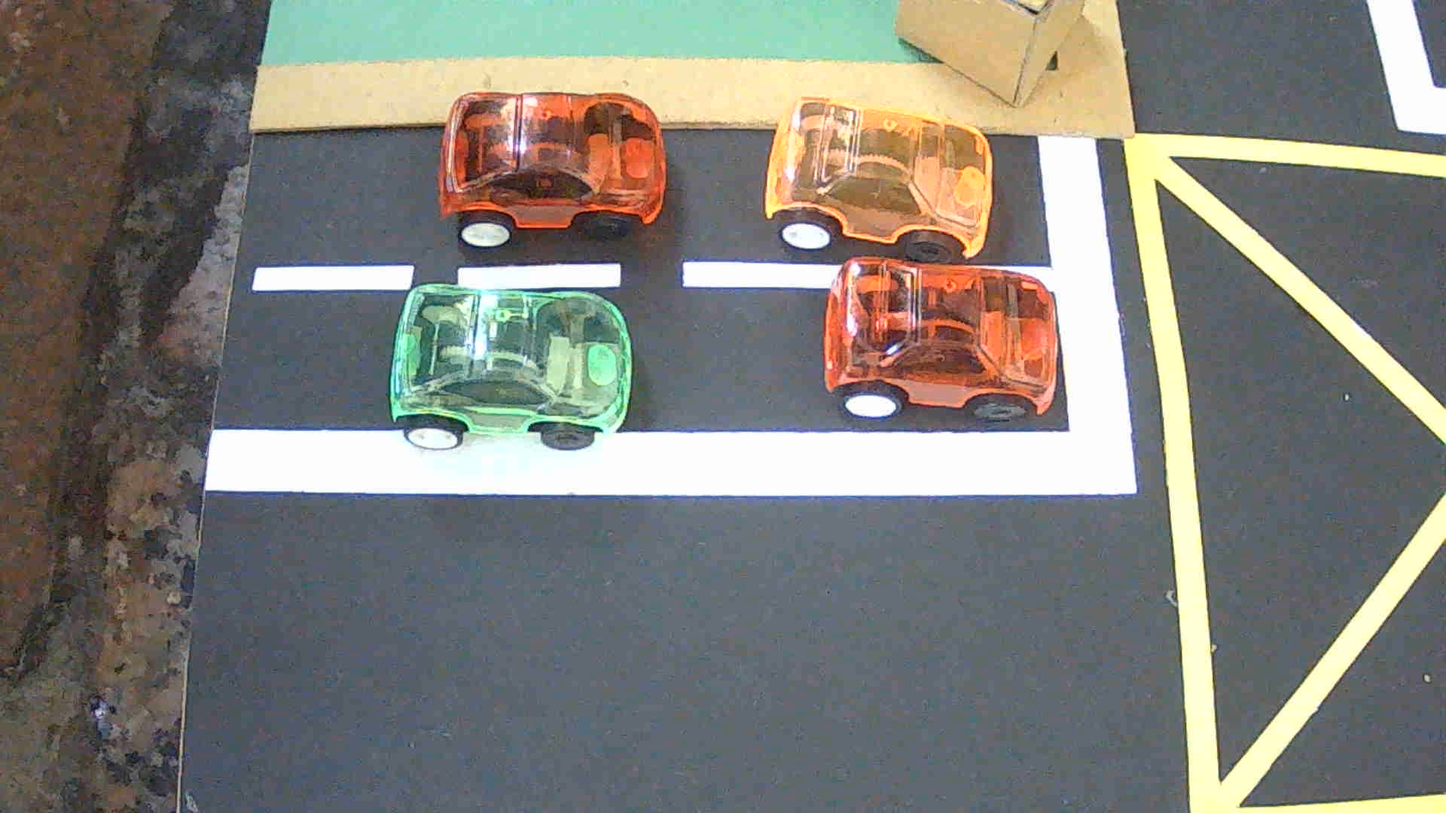Mobil hijau: (389, 285, 632, 449)
Mobil merah: (823, 257, 1058, 421), (438, 92, 666, 248)
Mobil orange: (764, 97, 993, 263)
